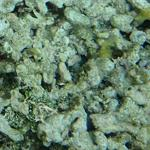dead: (3, 4, 145, 147)
